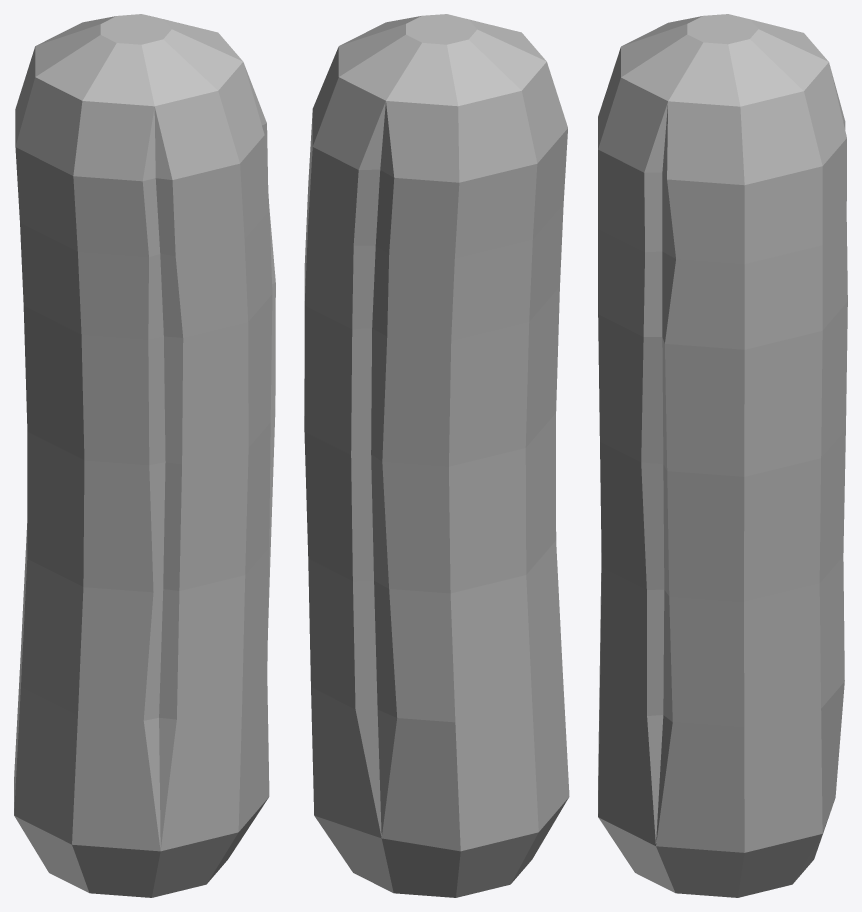
File: Cucumber_01.fbx
3 views of the same model, side by side, from view 1: azimuth 30°, elevation 25°; view 2: azimuth 150°, elevation 25°; view 3: azimuth 270°, elevation 25° (orthographic).
Parts seen in each view (by area): view 1: Cucumber_01; view 2: Cucumber_01; view 3: Cucumber_01.
Boxes of the visible parts, x1,y1,x2,y2 form: Cucumber_01: (14, 14, 275, 897); Cucumber_01: (304, 14, 569, 897); Cucumber_01: (598, 14, 847, 897).
Bounding box in the file's own units: 0.05 × 0.1747 × 0.0462.
